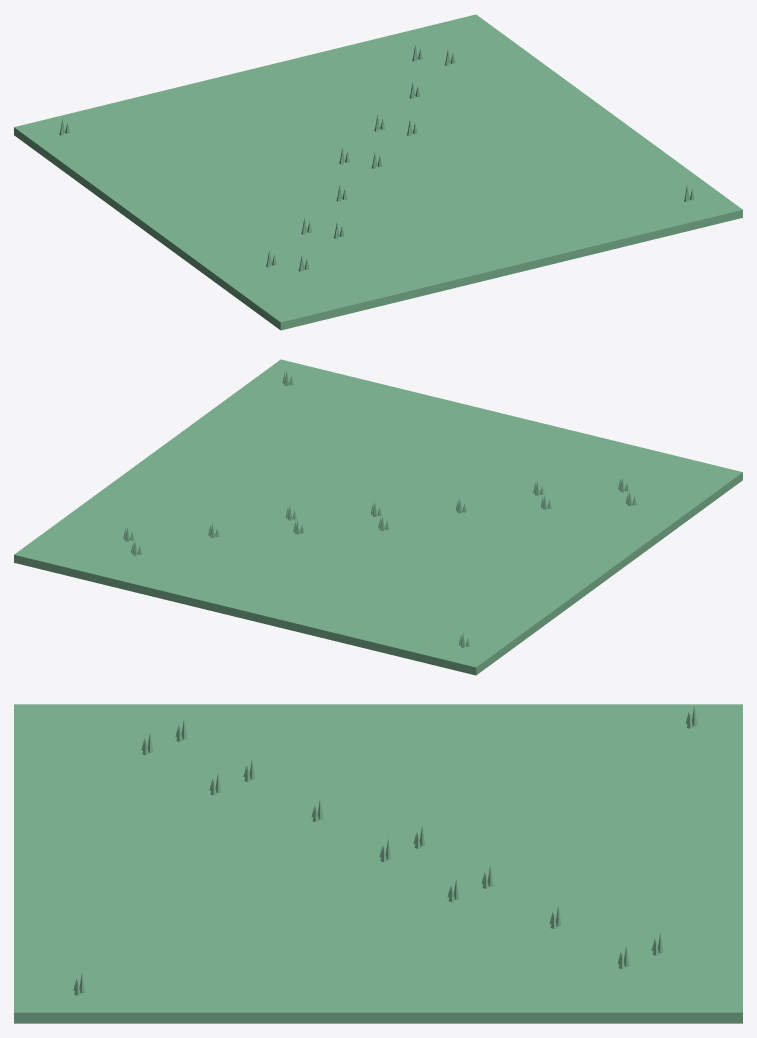
File: tennis-club-and-courts-court-surround-tile-d75e5790__33607.glb
3 views of the same model, one above another, from view 1: azimuth 30°, elevation 25°; view 2: azimuth 150°, elevation 25°; view 3: azimuth 270°, elevation 25° (orthographic). The views are drawn at different scales.
Parts seen in each view (by area): view 1: court-surround-tile; view 2: court-surround-tile; view 3: court-surround-tile.
Boxes of the visible parts, x1,y1,x2,y2 form: court-surround-tile: [14, 14, 742, 330]; court-surround-tile: [14, 359, 742, 675]; court-surround-tile: [14, 704, 742, 1023].
Bounding box in the file's own units: 6 × 0.2798 × 6.
